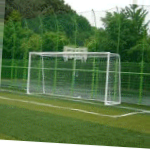goals: (25, 49, 123, 107)
